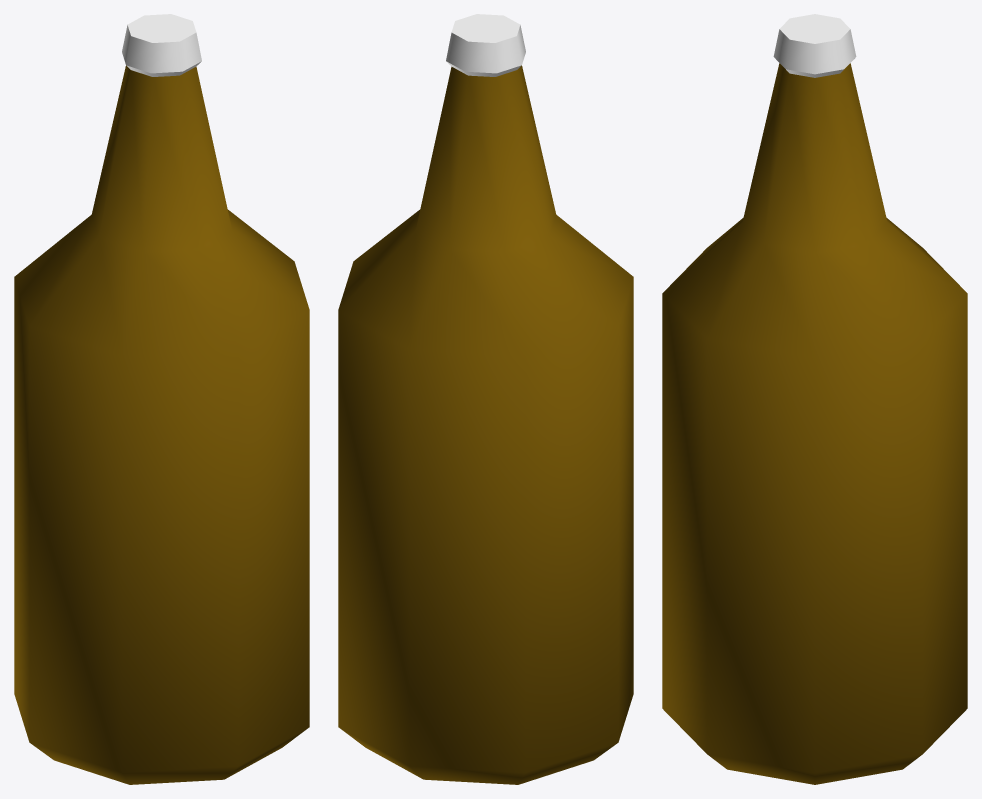
Rendered from Bottle.fbx.
The picture shows the model from 3 angles, left to right: view 1: azimuth 30°, elevation 25°; view 2: azimuth 150°, elevation 25°; view 3: azimuth 270°, elevation 25°; orthographic projection.
Visible parts, largest first — view 1: Bottle; view 2: Bottle; view 3: Bottle.
Boxes of the visible parts, x1,y1,x2,y2 form: Bottle: [14, 14, 309, 784]; Bottle: [338, 14, 633, 784]; Bottle: [662, 14, 967, 784].
Size of the model in its own units: 13.36 by 33.99 by 13.36.
